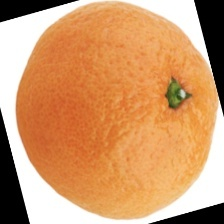orange: (16, 54, 191, 202)
